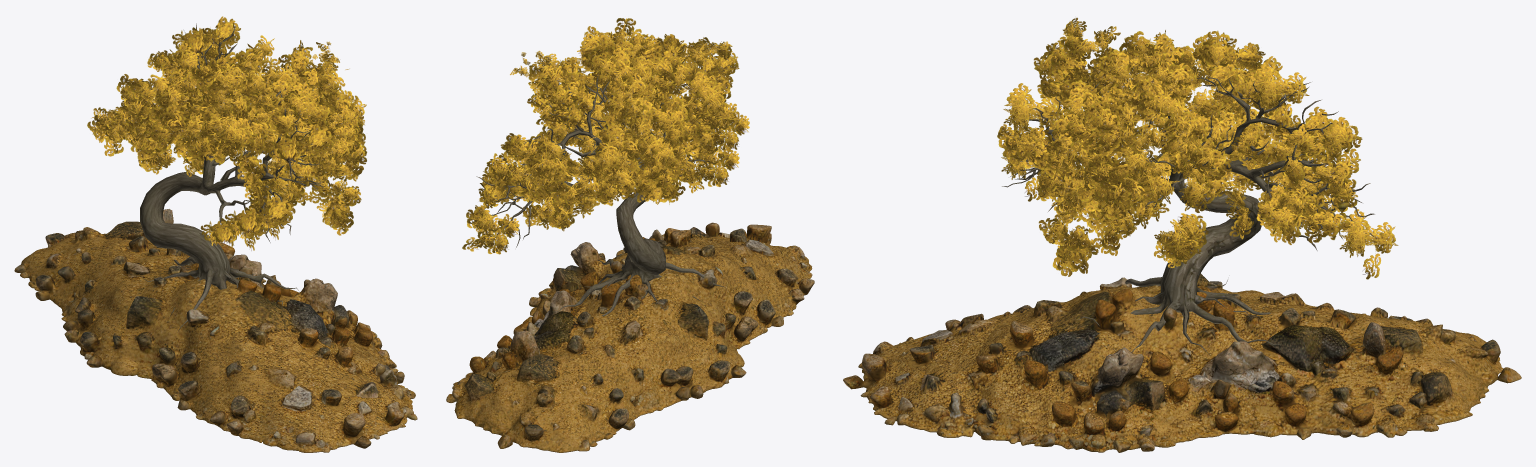
File: yellow tree.glb
3 renders of one model, left to right at view 1: azimuth 30°, elevation 25°; view 2: azimuth 150°, elevation 25°; view 3: azimuth 270°, elevation 25°, orthographic. The views are drawn at different scales.
Visible parts, largest first — view 1: tripo_node_b6d2c480-7064-4513-9203-ee80790d9a0e; view 2: tripo_node_b6d2c480-7064-4513-9203-ee80790d9a0e; view 3: tripo_node_b6d2c480-7064-4513-9203-ee80790d9a0e.
Part boxes in pixels (x1,y1,x2,y2): tripo_node_b6d2c480-7064-4513-9203-ee80790d9a0e: (14,16,417,452); tripo_node_b6d2c480-7064-4513-9203-ee80790d9a0e: (446,18,814,452); tripo_node_b6d2c480-7064-4513-9203-ee80790d9a0e: (843,17,1521,452).
Bounding box in the file's own units: 0.4931 × 0.6047 × 1.
3 materials, 3 textured.
